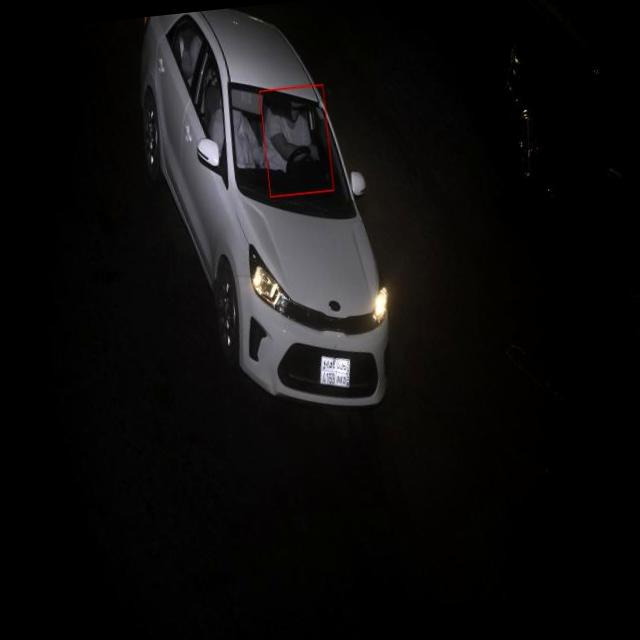person_without_seatbelt: (252, 90, 332, 186)
